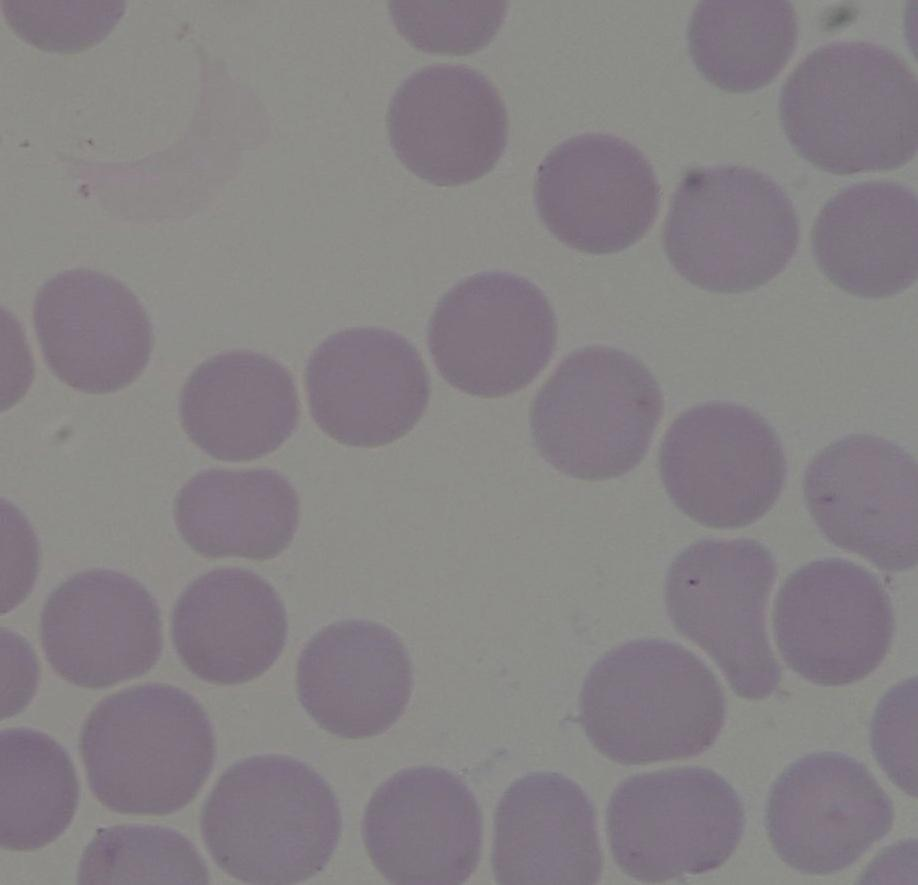Uninfected: (663, 539, 783, 698), (576, 641, 723, 766), (203, 756, 342, 882), (80, 683, 214, 813), (783, 43, 916, 171), (530, 348, 659, 477), (665, 166, 797, 290), (434, 269, 558, 396), (658, 402, 785, 525), (302, 326, 431, 446), (41, 568, 165, 689), (534, 134, 660, 253), (608, 768, 738, 881), (33, 269, 153, 391), (773, 561, 889, 687), (805, 435, 915, 566), (384, 64, 507, 181), (172, 567, 291, 685), (361, 768, 482, 883), (765, 755, 884, 871), (294, 620, 412, 736), (179, 349, 301, 459), (811, 179, 916, 293), (493, 774, 602, 883), (175, 467, 297, 560), (688, 2, 793, 86)
